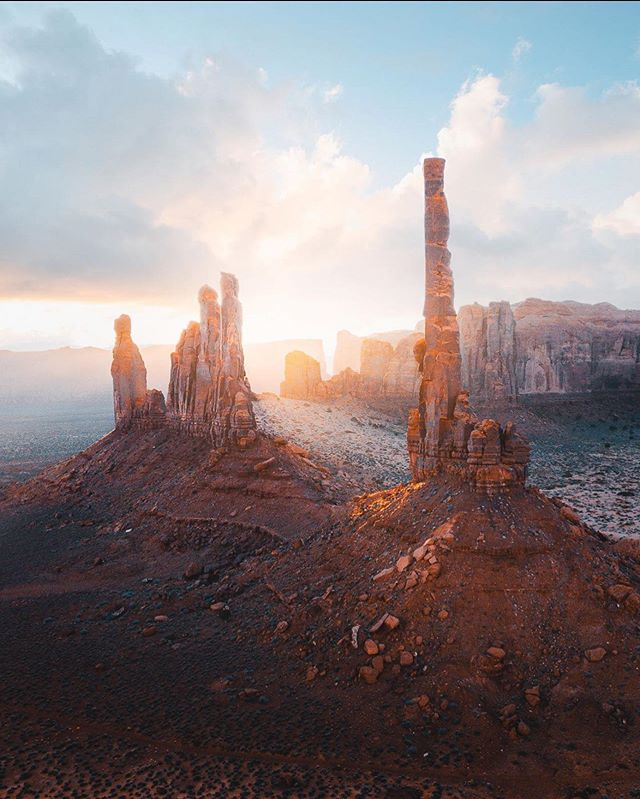rocks: (373, 136, 534, 493), (85, 268, 280, 466)
sky: (6, 7, 634, 352)
